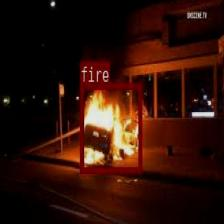fire: (79, 82, 141, 172)
